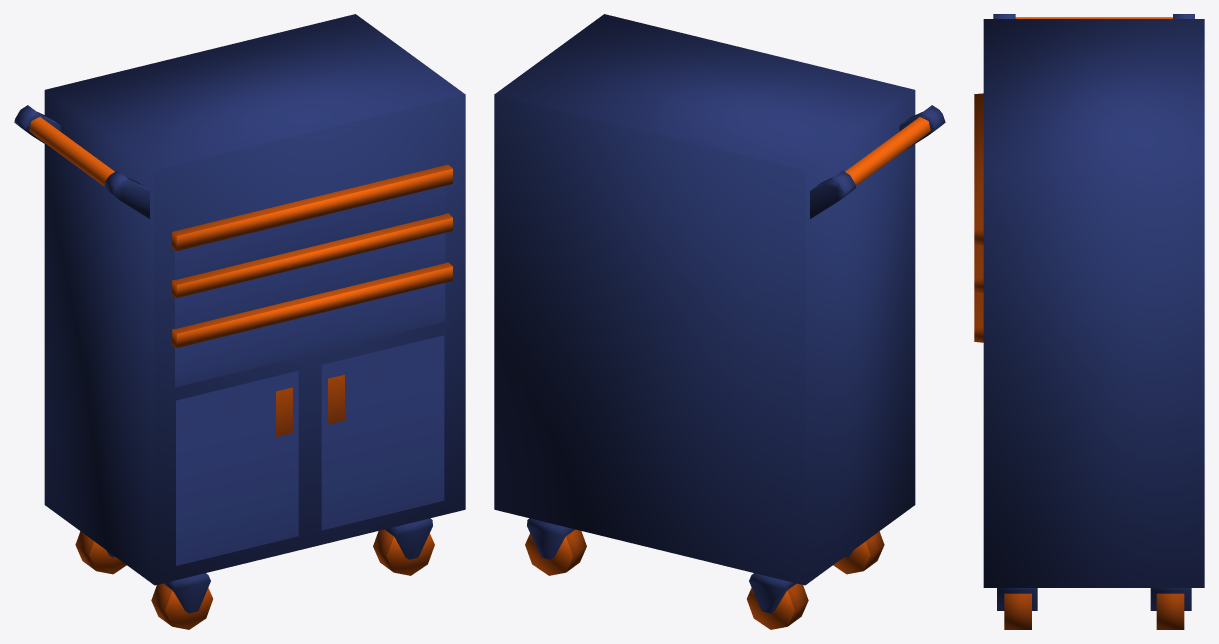
Rendered from CarrinhoFerramentas 1.fbx.
3 renders of one model, left to right at view 1: azimuth 30°, elevation 25°; view 2: azimuth 150°, elevation 25°; view 3: azimuth 270°, elevation 25°, orthographic.
Visible parts, largest first — view 1: CarrinhoFerramentas; view 2: CarrinhoFerramentas; view 3: CarrinhoFerramentas.
Part boxes in pixels (x1,y1,x2,y2): CarrinhoFerramentas: [14, 14, 465, 629]; CarrinhoFerramentas: [494, 14, 945, 629]; CarrinhoFerramentas: [974, 14, 1204, 629].
Bounding box in the file's own units: 80.07 × 106 × 45.98.
